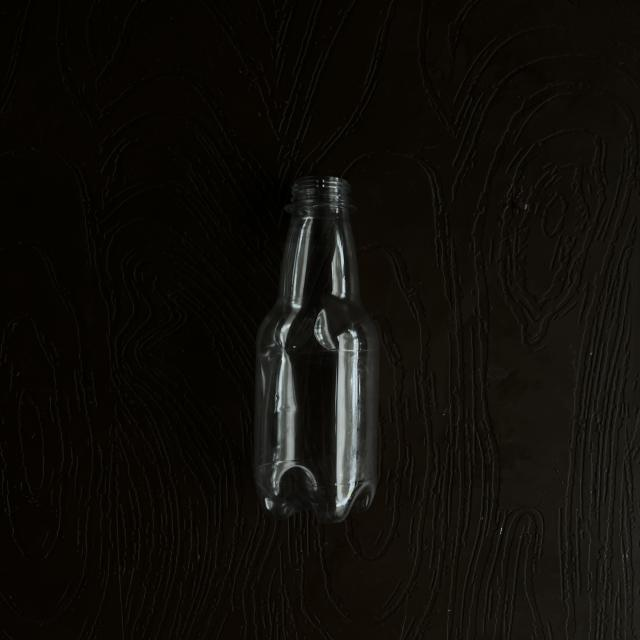PET_ClearBottle: (249, 174, 388, 514)
